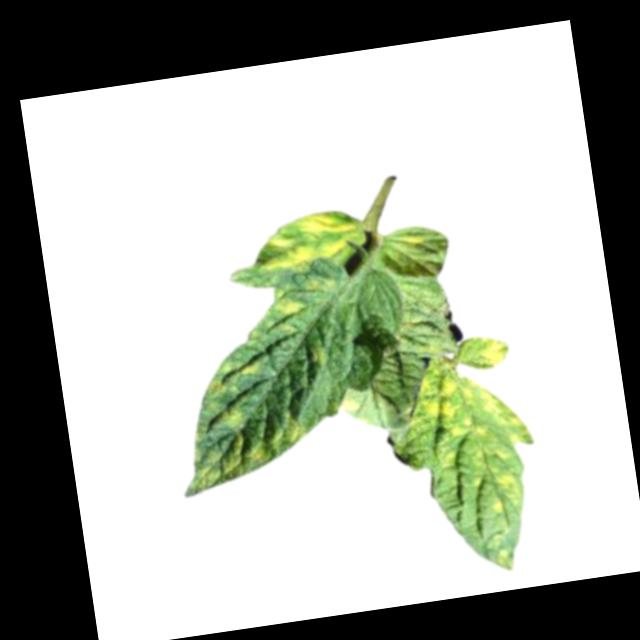Leaf_Mold: (400, 321, 550, 578), (172, 392, 316, 499), (257, 205, 376, 281), (200, 351, 268, 398), (265, 282, 310, 337)
